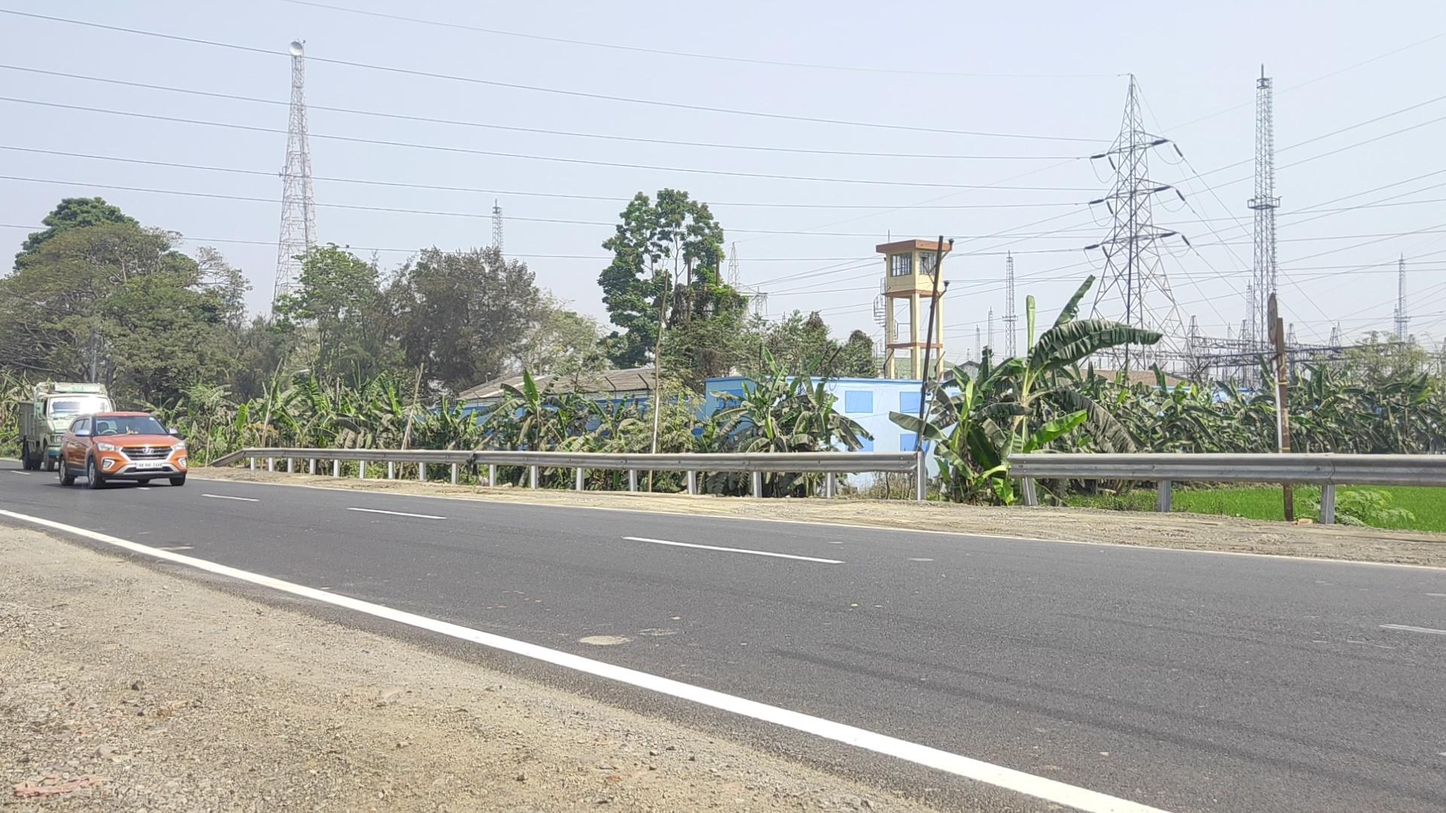car: (58, 410, 188, 489)
truck: (17, 382, 117, 473)
